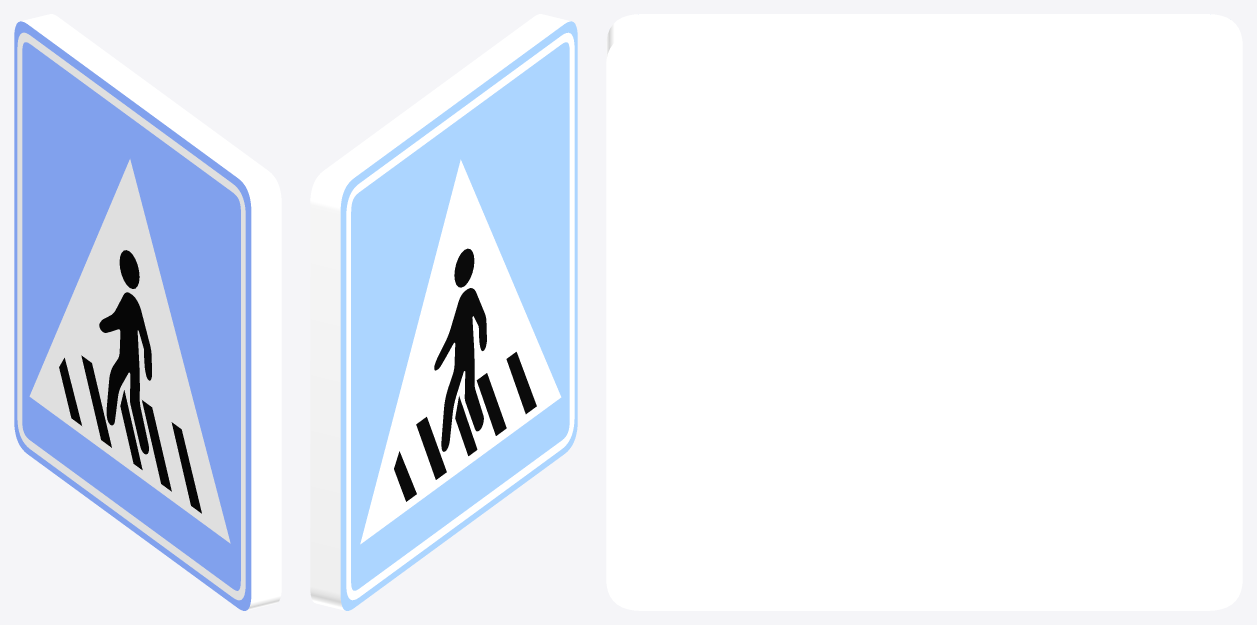
Rendered from Crosswalk.glb.
The picture shows the model from 3 angles, left to right: view 1: azimuth 30°, elevation 25°; view 2: azimuth 150°, elevation 25°; view 3: azimuth 270°, elevation 25°; orthographic projection. The views are drawn at different scales.
Visible parts, largest first — view 1: Crosswalk; view 2: Crosswalk; view 3: Crosswalk.
Boxes of the visible parts, box(x1,y1,x2,y2) form: Crosswalk: box(14, 14, 281, 610); Crosswalk: box(310, 14, 577, 610); Crosswalk: box(606, 14, 1242, 610).
Size of the model in its own units: 0.0849 by 1.01 by 1.01.
